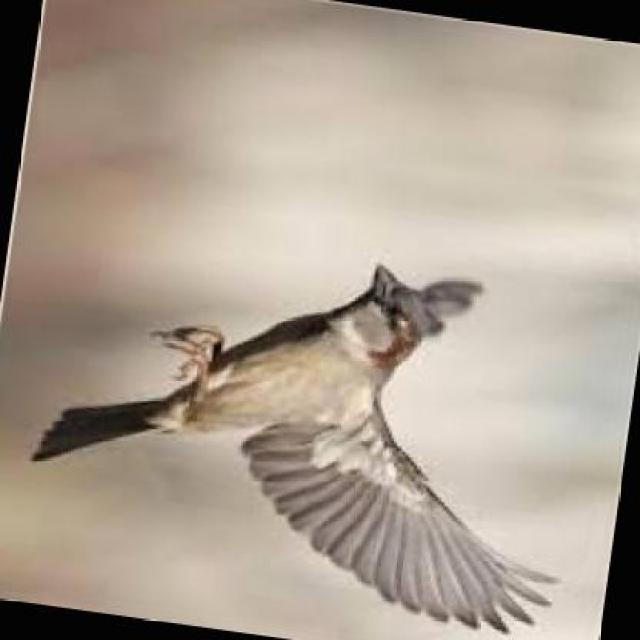Bird: (14, 259, 516, 526)
